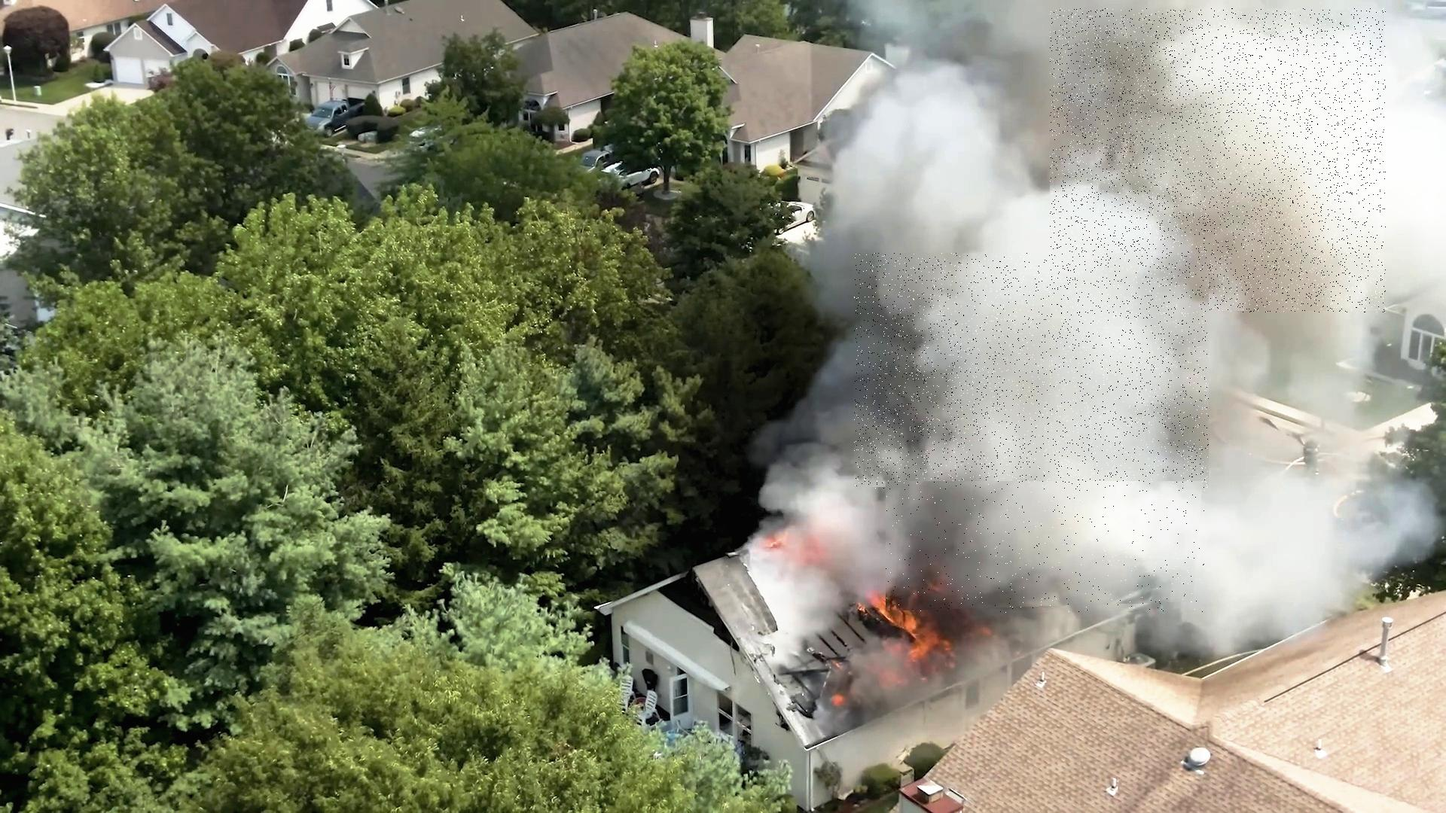smoke: (1050, 9, 1386, 313), (854, 254, 1209, 489), (886, 483, 1206, 613)
